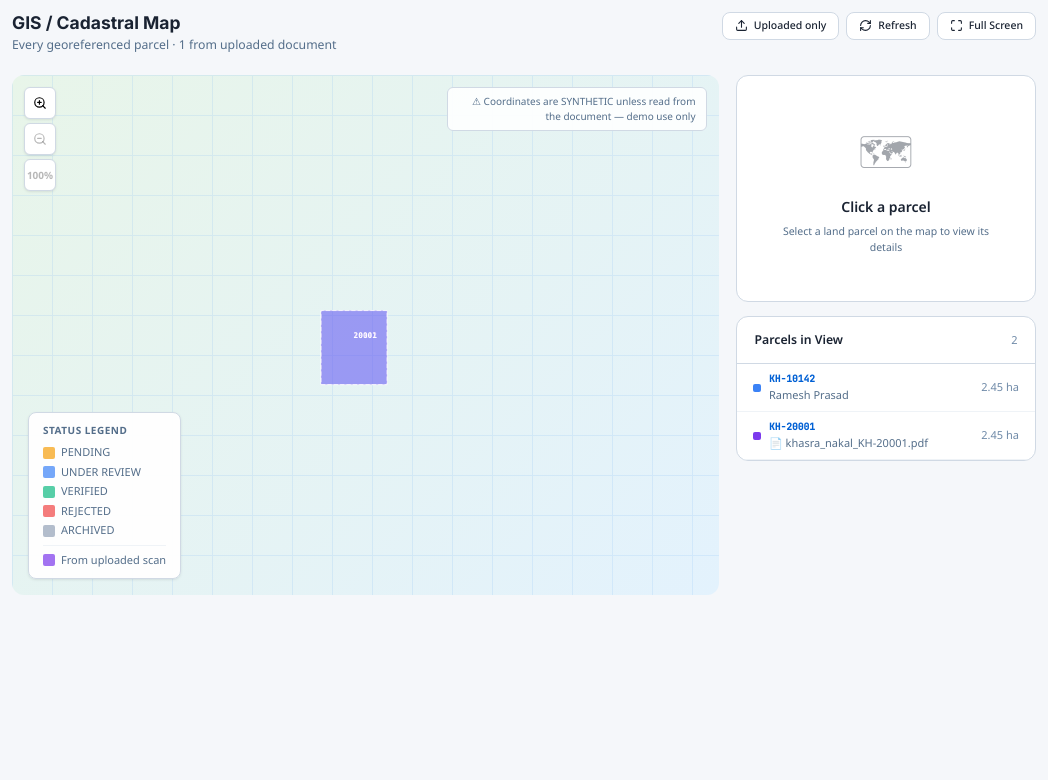
Scenario: MapPage with real GIS data › tells a seeded parcel apart from an uploaded one
This screenshot has width=1048, height=780.
Expected: the text "KH-20001" is shown, [769,420,815,433]
Click the seeded parcel: it must not claim an upload.
Click the text "KH-10142" at (792,379), box [769,372,815,385]
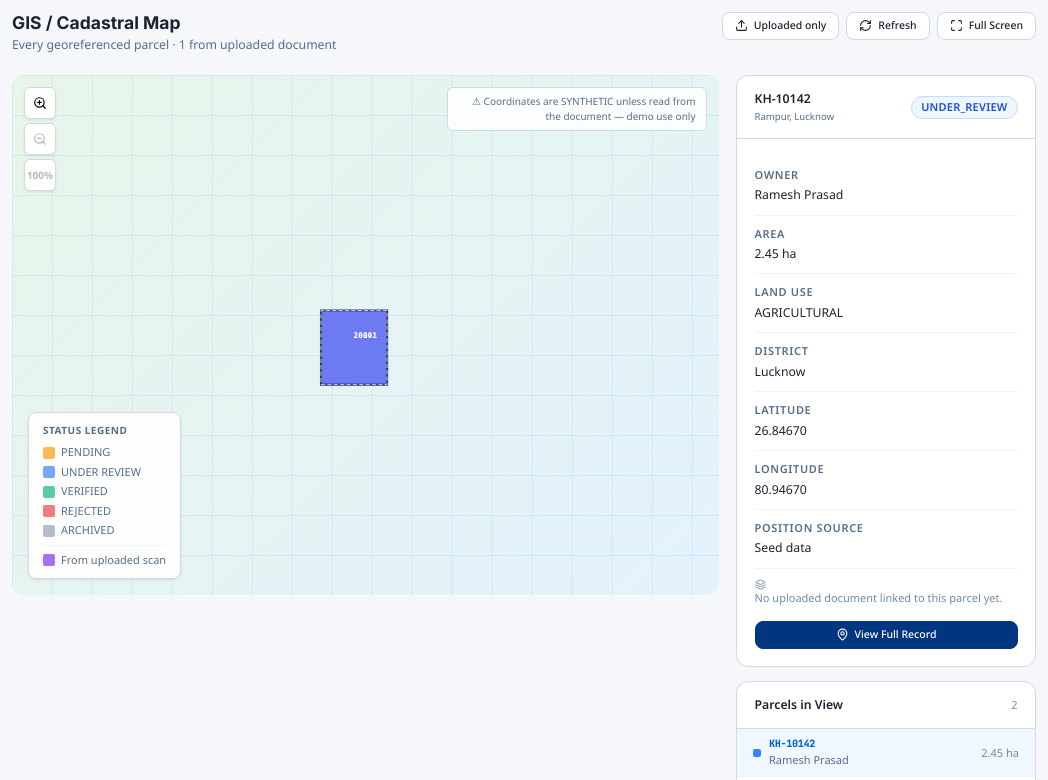
Expected: the text "No uploaded document linked to this parcel yet." is shown, [754,579,1018,607]
